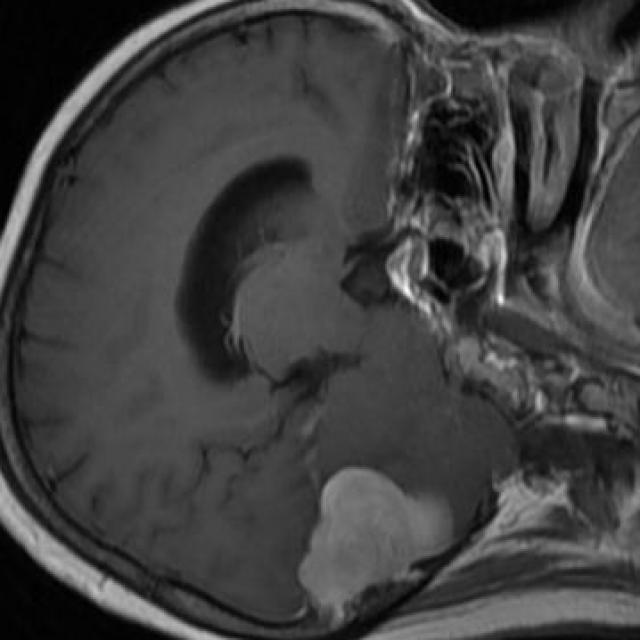meningioma: (298, 467, 453, 622)
